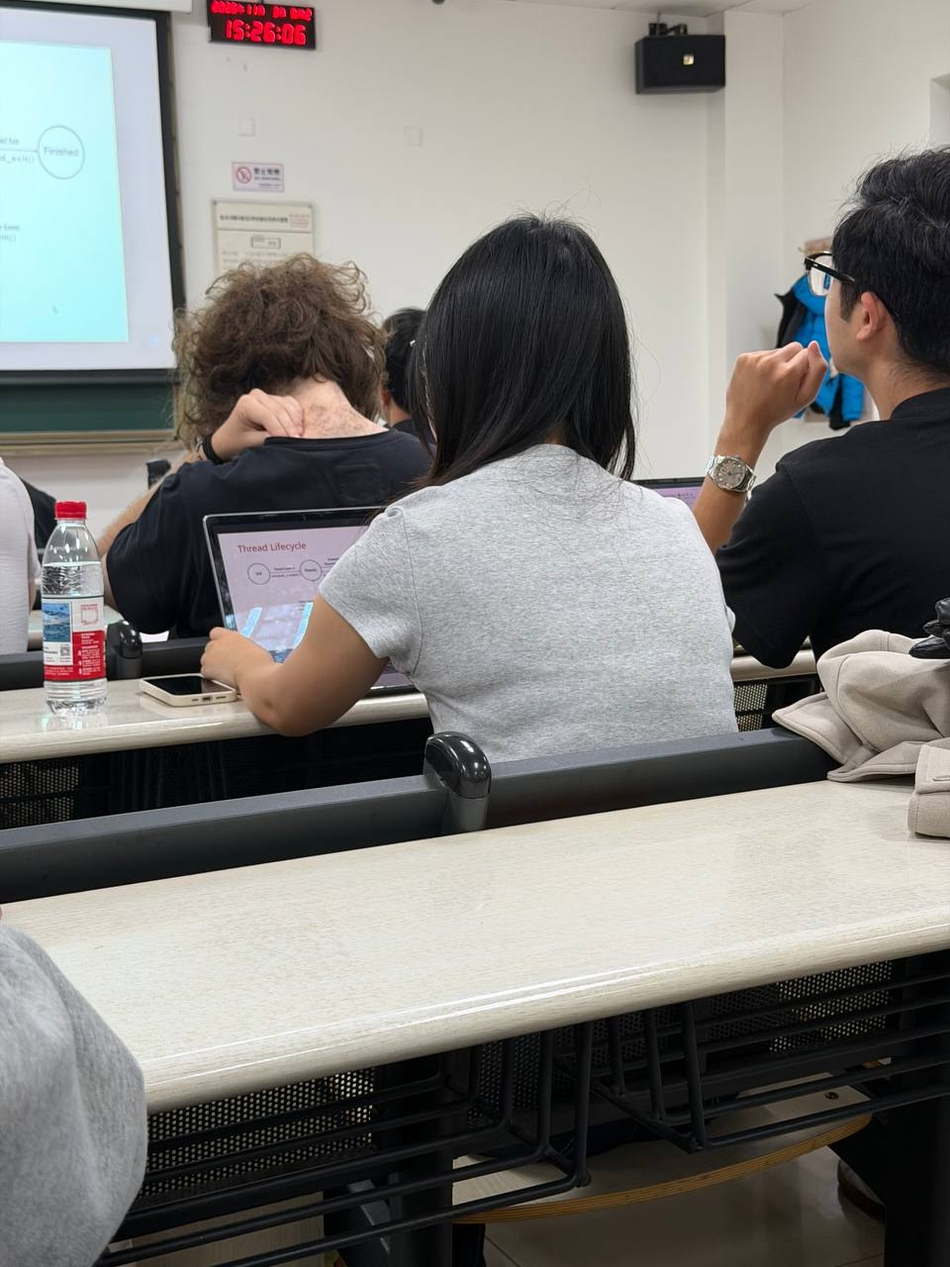cell phone: (139, 672, 238, 706)
laptop: (202, 504, 421, 697), (629, 476, 707, 512)
